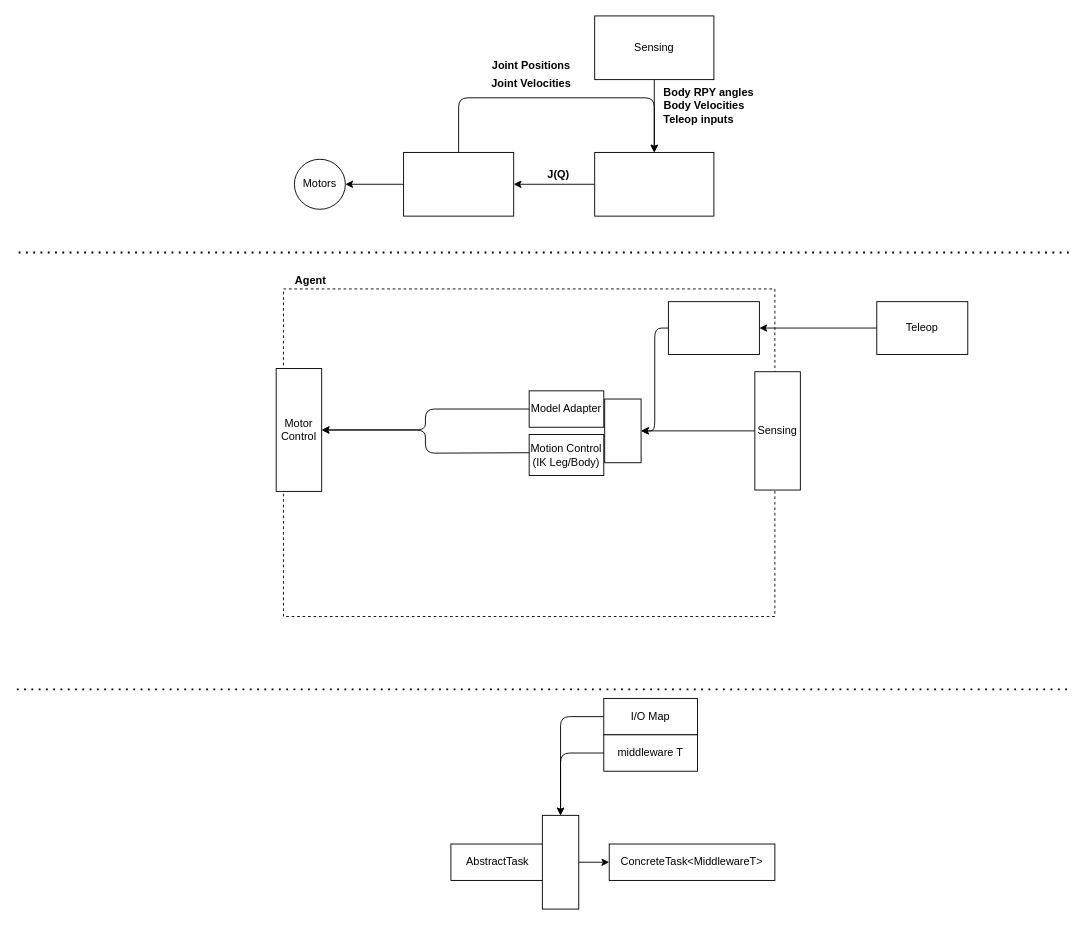
This 1091x925 diagram has some shape labels left out. Each missing label, with the centre of its shape:
"Actuation" goes at point 458,184.
"Input Server" goes at point 713,327.
"MiddlewareIface" goes at point 560,861.
"Motion Control" goes at point 654,184.
"TaskIFace" goes at point 622,430.
